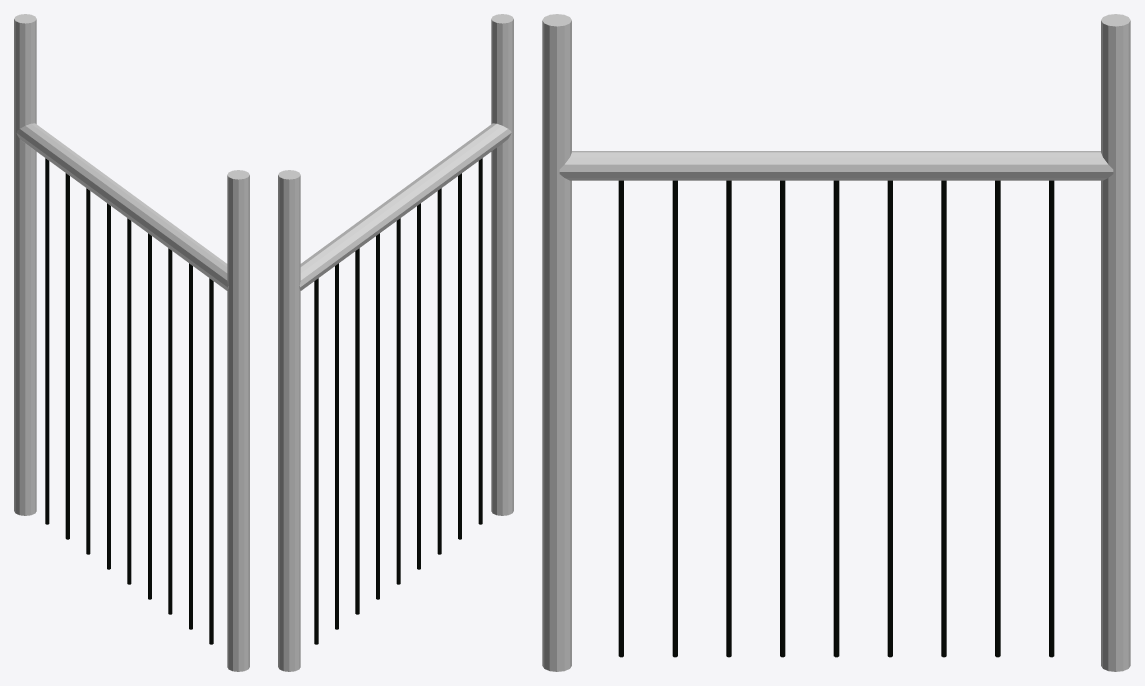
Rendered from Metal_Fence_022.fbx.
The picture shows the model from 3 angles, left to right: view 1: azimuth 30°, elevation 25°; view 2: azimuth 150°, elevation 25°; view 3: azimuth 270°, elevation 25°; orthographic projection. The views are drawn at different scales.
Visible parts, largest first — view 1: Metal Fence.022; view 2: Metal Fence.022; view 3: Metal Fence.022.
Part boxes in pixels (x1=…): Metal Fence.022: x1=14, y1=14, x2=249, y2=671; Metal Fence.022: x1=278, y1=14, x2=513, y2=671; Metal Fence.022: x1=542, y1=14, x2=1130, y2=671.
Size of the model in its own units: 25.89 by 621 by 513.
